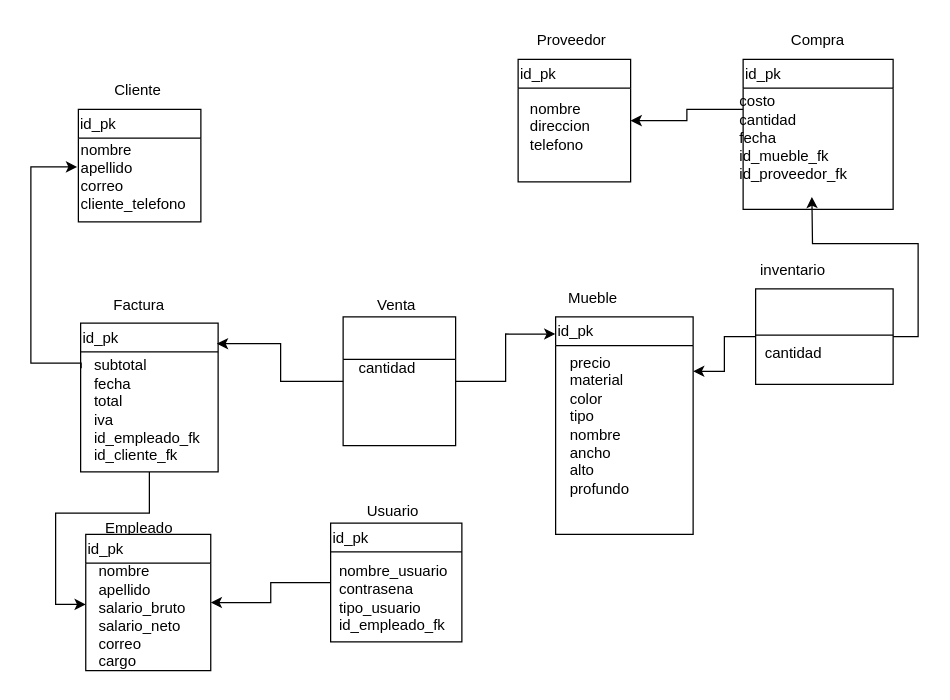
Image size: 950x700. Some labels were removed from this diagram. Here are the shapes that lost their labels. From the top down, the box of each, then its label:
(754, 288, 893, 384): id_mueble_fk id_compra_fk
(342, 316, 456, 446): id_factura_fk id_mueble_fk
